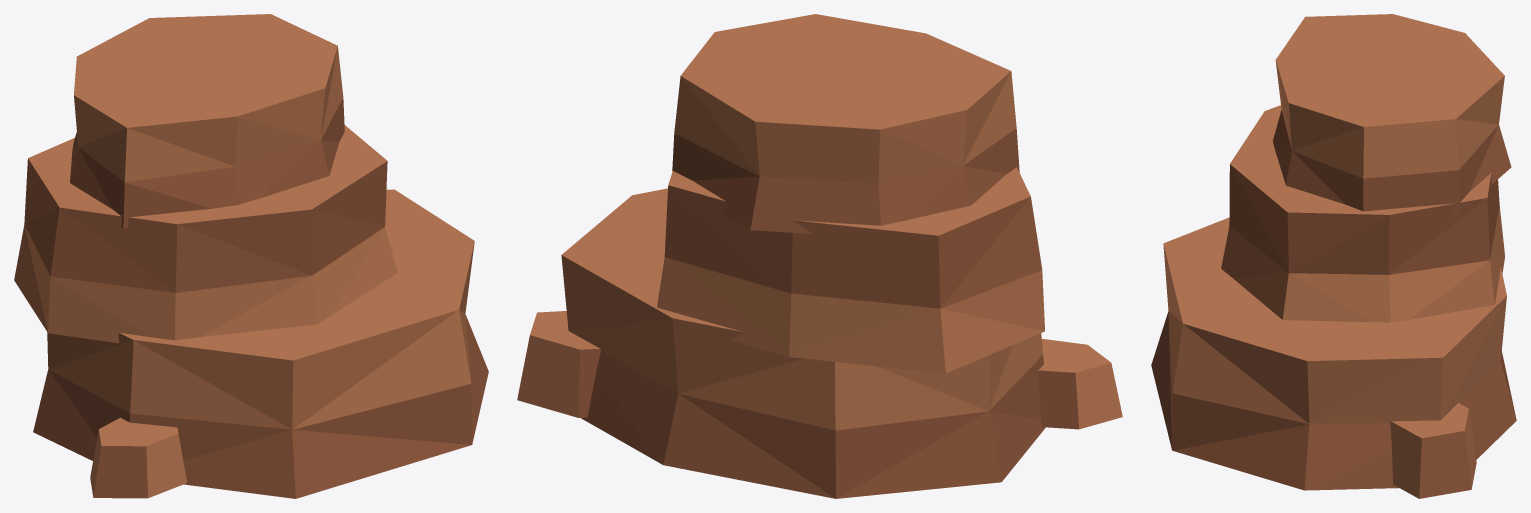
Rendered from rock_sandstone_01.glb.
3 renders of one model, left to right at view 1: azimuth 30°, elevation 25°; view 2: azimuth 150°, elevation 25°; view 3: azimuth 270°, elevation 25°, orthographic. The views are drawn at different scales.
Parts seen in each view (by area): view 1: rock_sandstone_01; view 2: rock_sandstone_01; view 3: rock_sandstone_01.
Part boxes in pixels (box(x1,y1,x2,y2)): rock_sandstone_01: box(14, 14, 488, 498); rock_sandstone_01: box(517, 14, 1122, 498); rock_sandstone_01: box(1151, 14, 1516, 498).
Size of what is drawn, in the model's own units: 2.73 by 1.9 by 2.04.
1 material, 1 textured.
